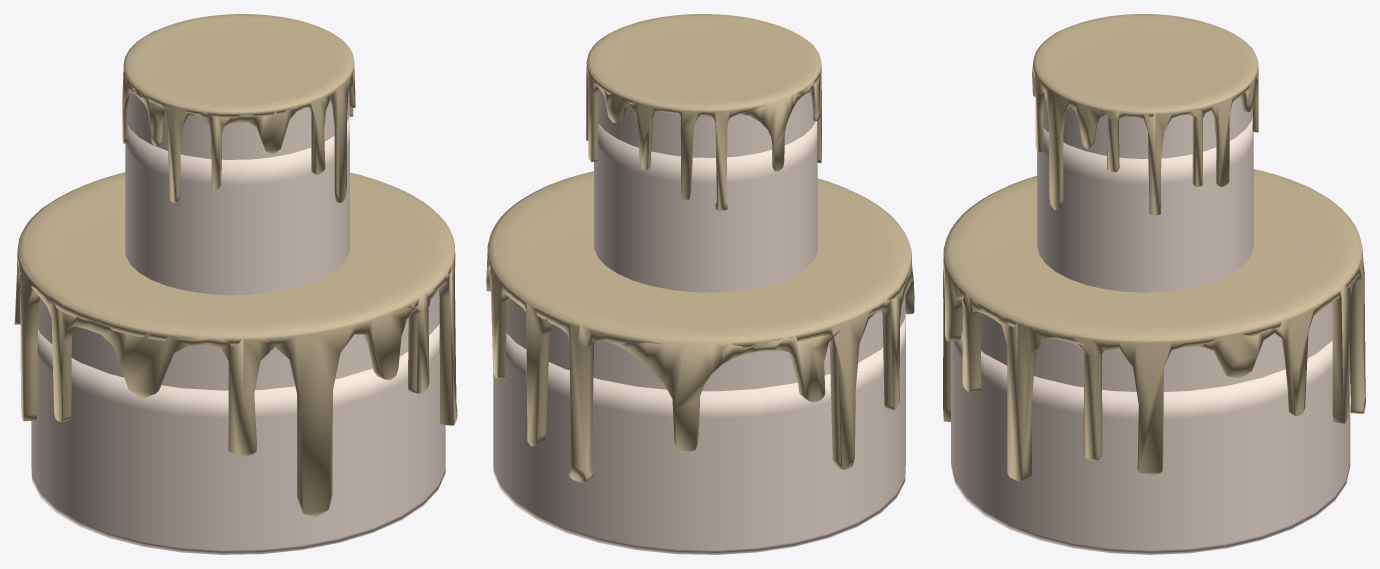
Rendered from 2-tier-white-ganache-none.glb.
The picture shows the model from 3 angles, left to right: view 1: azimuth 30°, elevation 25°; view 2: azimuth 150°, elevation 25°; view 3: azimuth 270°, elevation 25°; orthographic projection.
Visible parts, largest first — view 1: Cylinder.023, tHE ICING.004, Cylinder.013, tHE ICING.003; view 2: Cylinder.023, tHE ICING.004, Cylinder.013, tHE ICING.003; view 3: Cylinder.023, tHE ICING.004, Cylinder.013, tHE ICING.003.
Boxes of the visible parts, x1,y1,x2,y2 form: Cylinder.023: (31,290,445,554); tHE ICING.004: (14,172,457,516); Cylinder.013: (125,90,349,295); tHE ICING.003: (122,14,355,203); Cylinder.023: (493,295,905,554); tHE ICING.004: (486,171,914,482); Cylinder.013: (594,88,817,292); tHE ICING.003: (586,14,821,211); Cylinder.023: (951,302,1350,554); tHE ICING.004: (943,169,1365,481); Cylinder.013: (1037,94,1253,292); tHE ICING.003: (1032,14,1258,215).
Bounding box in the file's own units: 3.53 × 3.66 × 3.46.
